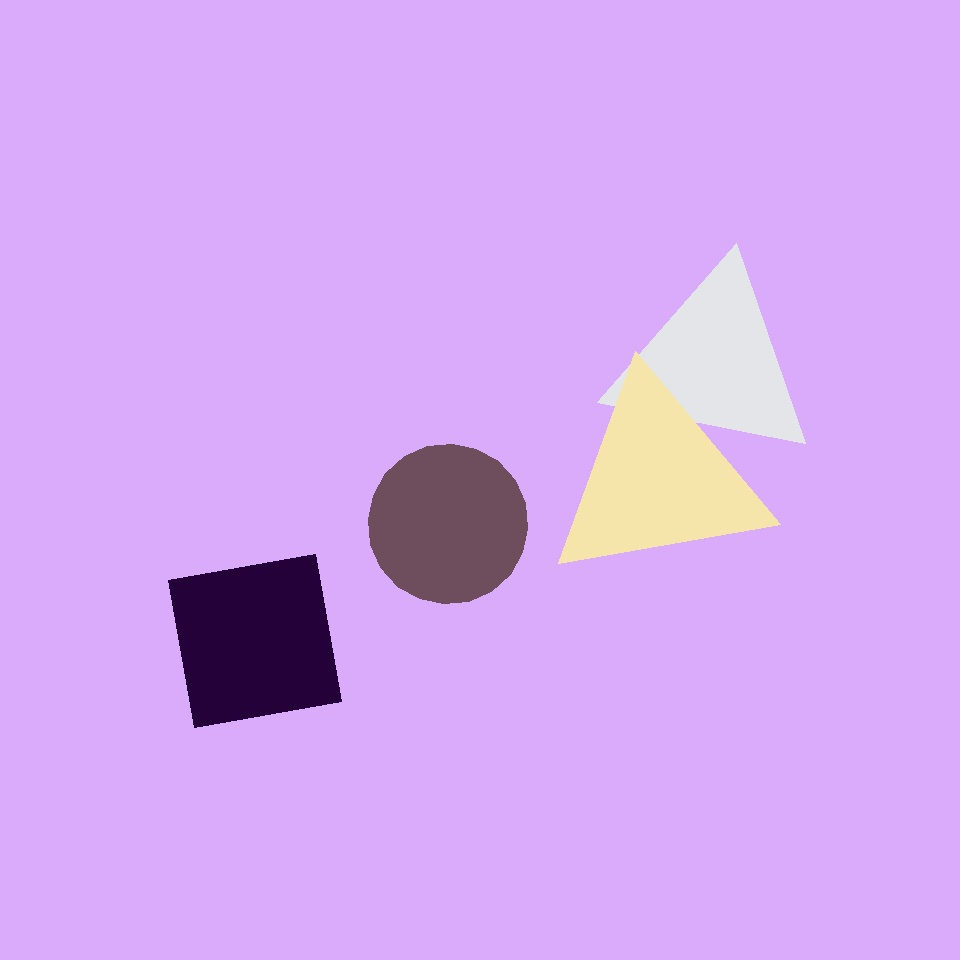circle: (461, 356, 733, 623), (547, 374, 769, 586), (609, 263, 817, 463), (449, 138, 618, 319), (214, 402, 373, 558)
square: (168, 554, 342, 728), (272, 554, 389, 671)
triangle: (312, 228, 594, 510), (368, 444, 528, 603)
